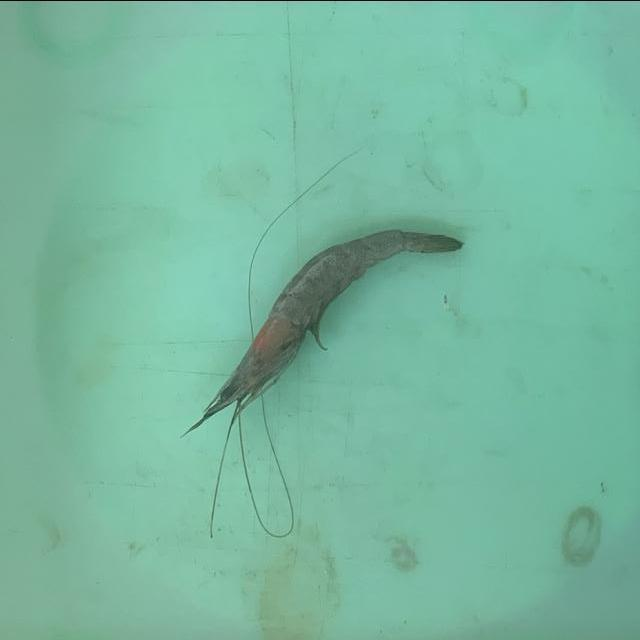shrimp: (183, 229, 463, 535)
